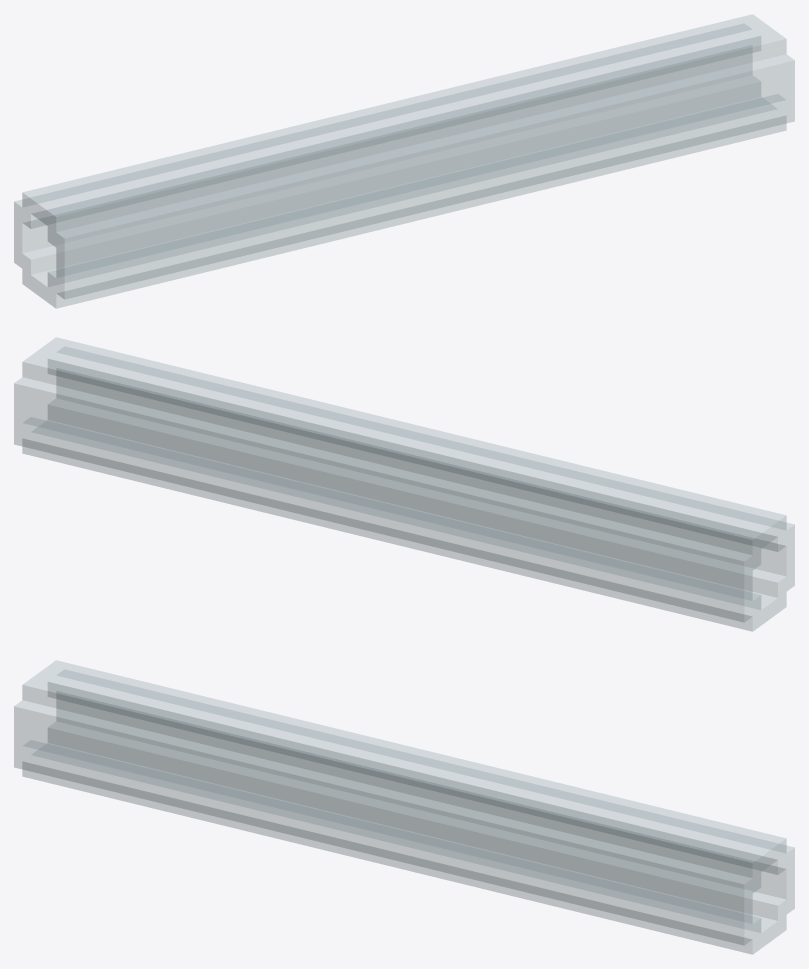
File: glass_tube_small.glb
3 views of the same model, one above another, from view 1: azimuth 30°, elevation 25°; view 2: azimuth 150°, elevation 25°; view 3: azimuth 330°, elevation 25° (orthographic).
Parts seen in each view (by area): view 1: glass_tube_small:compound; view 2: glass_tube_small:compound; view 3: glass_tube_small:compound.
Part boxes in pixels (x1=…): glass_tube_small:compound: x1=14, y1=14, x2=794, y2=308; glass_tube_small:compound: x1=14, y1=337, x2=794, y2=631; glass_tube_small:compound: x1=14, y1=660, x2=794, y2=954.
Bounding box in the file's own units: 0.1 × 0.012 × 0.012.
